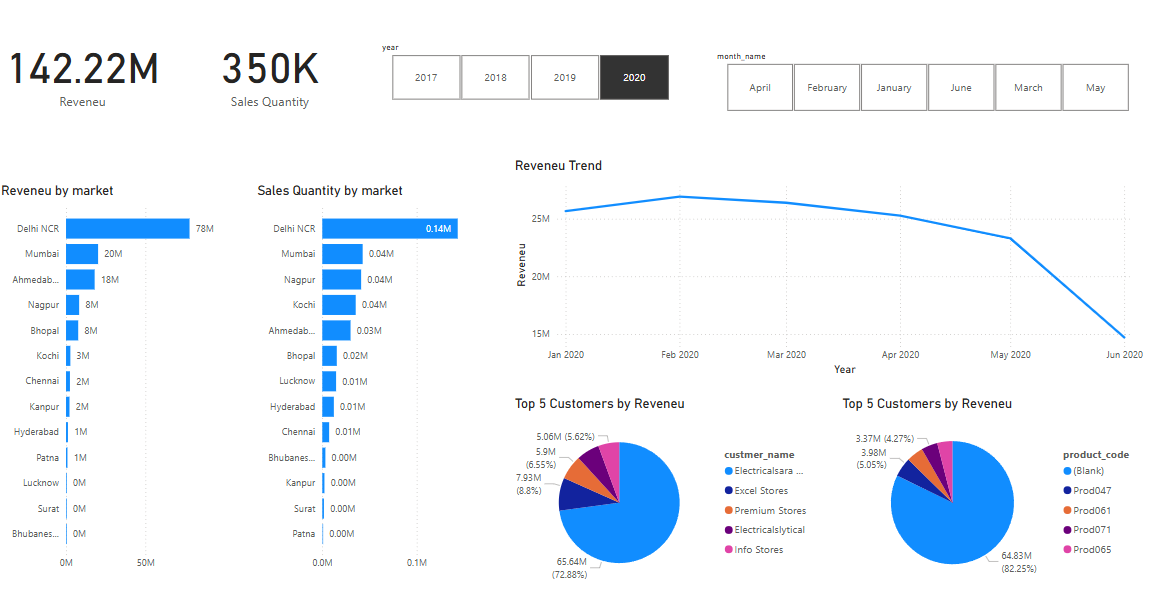

Layout of this report page (visuals, bound fields, positions):
{"tool":"powerbi","page":{"name":"Page 1","canvas":[1500,850],"ordinal":0},"visuals":[{"type":"card","fields":{"Values":["Base measures.Reveneu"]},"box":[0,43.4,220.3,223.5],"z":0},{"type":"card","fields":{"Values":["Base measures.Sales Quantity"]},"box":[220.3,43.4,262.1,223.5],"z":1},{"type":"barChart","title":"Reveneu by market","fields":{"Y":["Base measures.Reveneu"],"Category":["sales markets.markets_name"]},"box":[0,297.5,303.9,508.1],"z":2},{"type":"barChart","title":"Sales Quantity by market","fields":{"Y":["Base measures.Sales Quantity"],"Category":["sales markets.markets_name"]},"box":[329.7,297.5,305.5,508.1],"z":3},{"type":"slicer","fields":{"Values":["sales date.year"]},"box":[482.4,112.6,405.2,85.2],"z":4},{"type":"slicer","fields":{"Values":["sales date.month_name"]},"box":[913.4,123.8,566,88.4],"z":5},{"type":"pieChart","title":"Top 5 Customers by Reveneu","fields":{"Category":["sales customers.custmer_name"],"Y":["Base measures.Reveneu"]},"box":[660.9,572.5,395.6,254.1],"z":6},{"type":"pieChart","title":"Top 5 Customers by Reveneu","fields":{"Category":["sales products.product_code"],"Y":["Base measures.Reveneu"]},"box":[1082.2,572.5,397.2,254.1],"z":7},{"type":"lineChart","title":"Reveneu Trend","fields":{"Y":["Base measures.Reveneu"],"Category":["sales date.cy_date.Variation.Date Hierarchy.Year","sales date.cy_date.Variation.Date Hierarchy.Quarter","sales date.cy_date.Variation.Date Hierarchy.Month","sales date.cy_date.Variation.Date Hierarchy.Day"]},"box":[660.9,265.3,818.5,286.2],"z":8}]}

Visuals, with their boxes on the page's 1500x850 design canvas (x1, y1, x2, y2). These are canvas units, not pixel positions in the 1155x595 screenshot, which may show the page scaled, cropped or inside an application window:
card - Base measures.Reveneu: locate(0, 43, 220, 267)
card - Base measures.Sales Quantity: locate(220, 43, 482, 267)
"Reveneu by market" barChart: locate(0, 298, 304, 806)
"Sales Quantity by market" barChart: locate(330, 298, 635, 806)
slicer - sales date.year: locate(482, 113, 888, 198)
slicer - sales date.month_name: locate(913, 124, 1479, 212)
"Top 5 Customers by Reveneu" pieChart: locate(661, 572, 1056, 827)
"Top 5 Customers by Reveneu" pieChart: locate(1082, 572, 1479, 827)
"Reveneu Trend" lineChart: locate(661, 265, 1479, 552)
